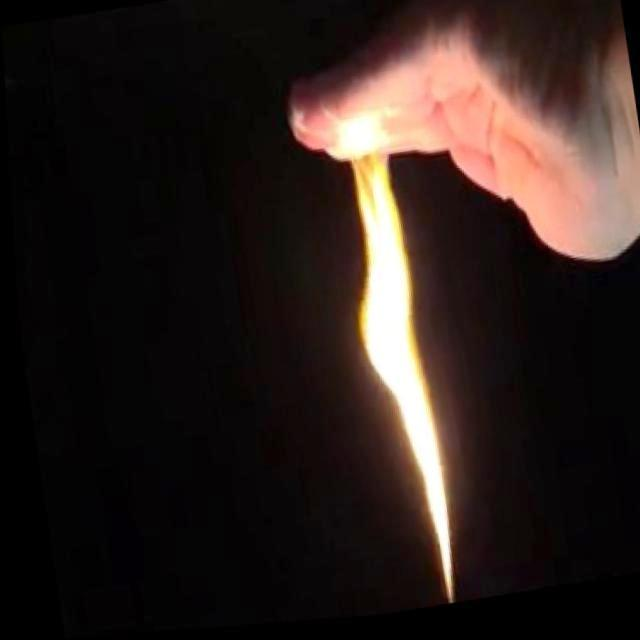fire: (324, 82, 452, 474)
